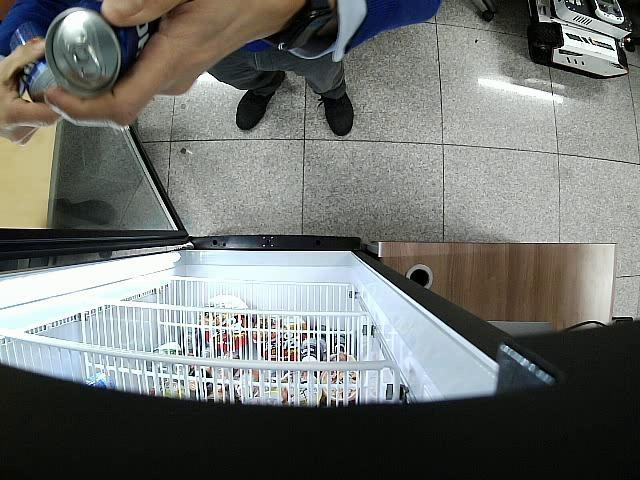16_hot6: (46, 0, 156, 100), (11, 24, 64, 102)
